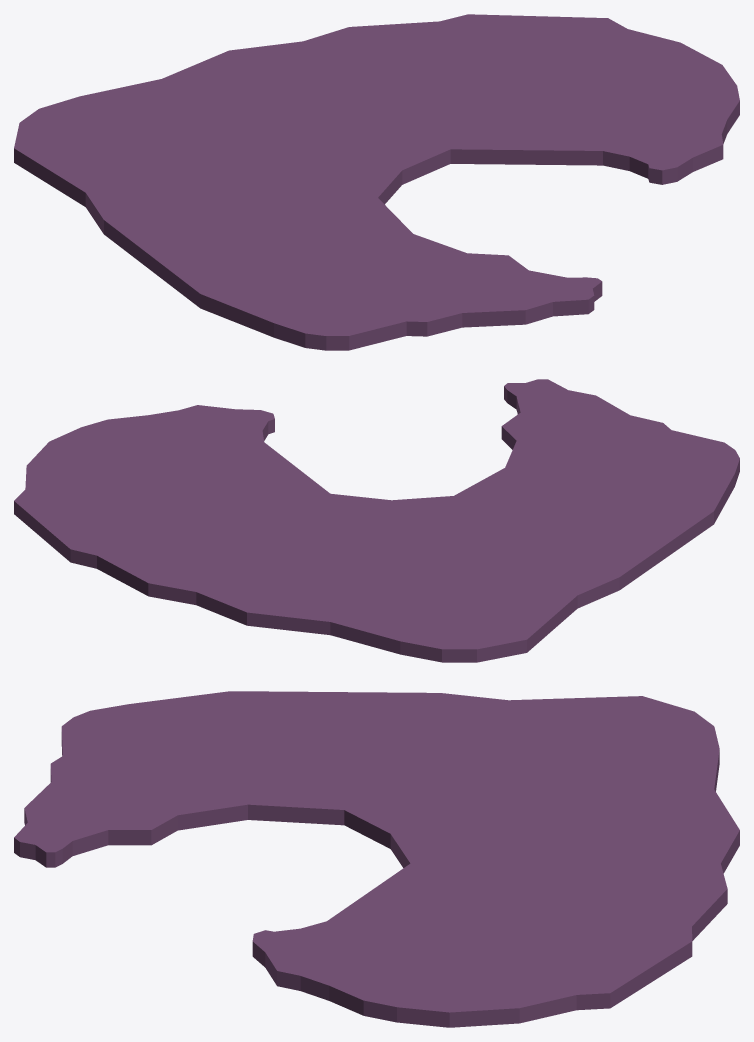
Rendered from VL_Ground03.fbx.
3 renders of one model, top to bottom at view 1: azimuth 30°, elevation 25°; view 2: azimuth 150°, elevation 25°; view 3: azimuth 270°, elevation 25°, orthographic. The views are drawn at different scales.
Visible parts, largest first — view 1: VL_Ground03; view 2: VL_Ground03; view 3: VL_Ground03.
Boxes of the visible parts, box(x1,y1,x2,y2) form: VL_Ground03: box(14, 14, 739, 350); VL_Ground03: box(14, 379, 739, 662); VL_Ground03: box(14, 691, 739, 1027).
Bounding box in the file's own units: 676 × 15 × 646.
1 material, 1 textured.
